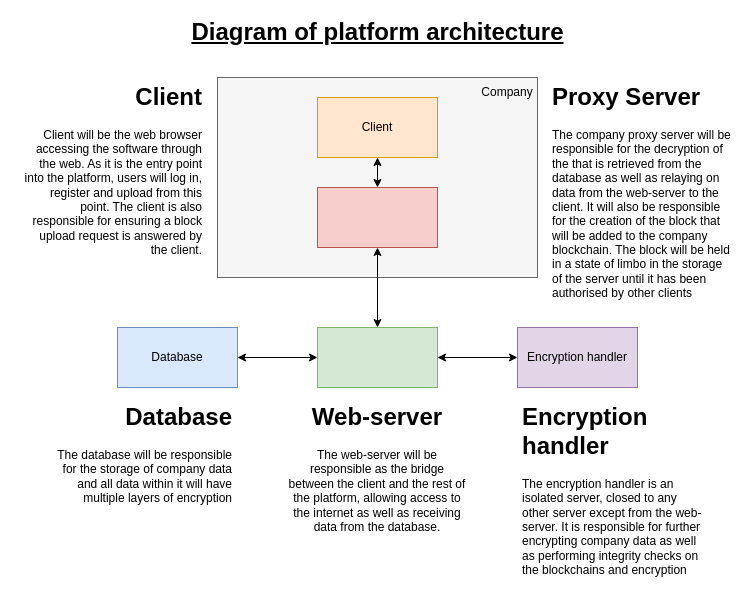
This 754x604 diagram has some shape labels left out. Here are the shapes that lost their labels. From the top down, the box of each, then its label:
(316, 186, 438, 248): Company Proxy-Server
(316, 326, 438, 388): Web-server
